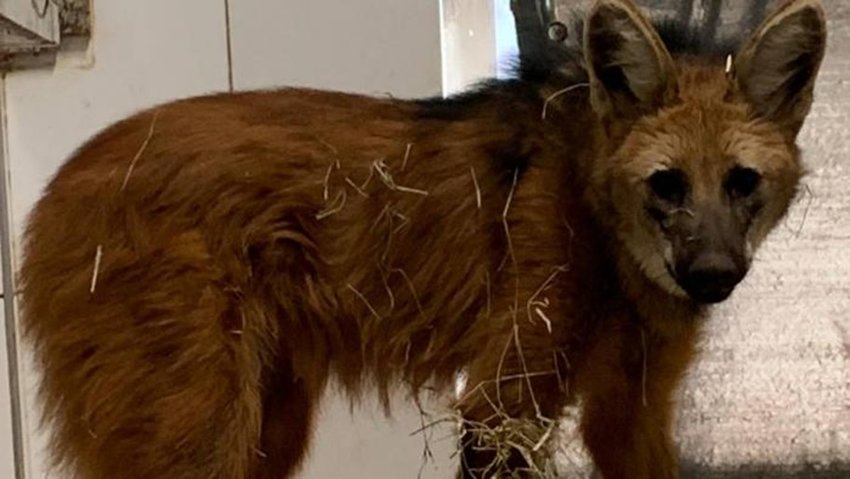LoboGuara: (23, 13, 827, 446)
